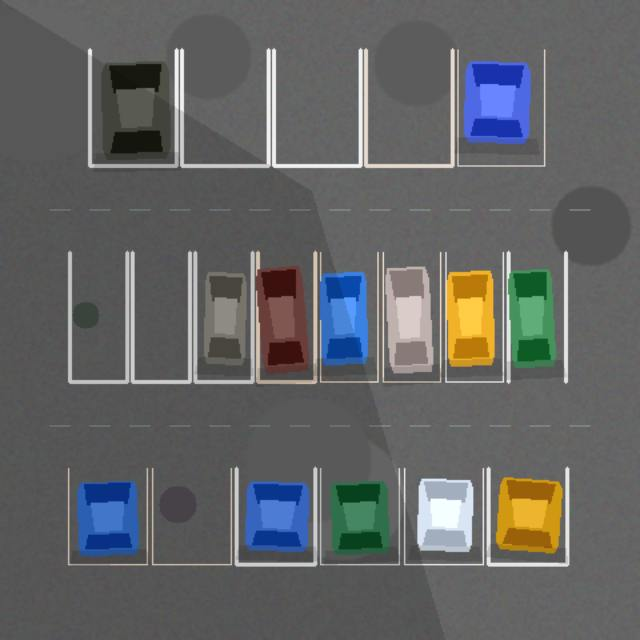space-empty: (181, 49, 268, 165), (273, 49, 360, 165), (365, 49, 452, 165), (152, 468, 231, 564), (69, 252, 127, 381), (132, 252, 189, 381)
space-occupied: (89, 49, 176, 165), (457, 49, 544, 165), (68, 468, 147, 564), (236, 468, 315, 564), (320, 468, 399, 564), (404, 468, 483, 564), (488, 468, 567, 564), (257, 252, 315, 381), (445, 252, 503, 381), (195, 252, 252, 381), (320, 252, 377, 381), (383, 252, 440, 381), (508, 252, 565, 381)
